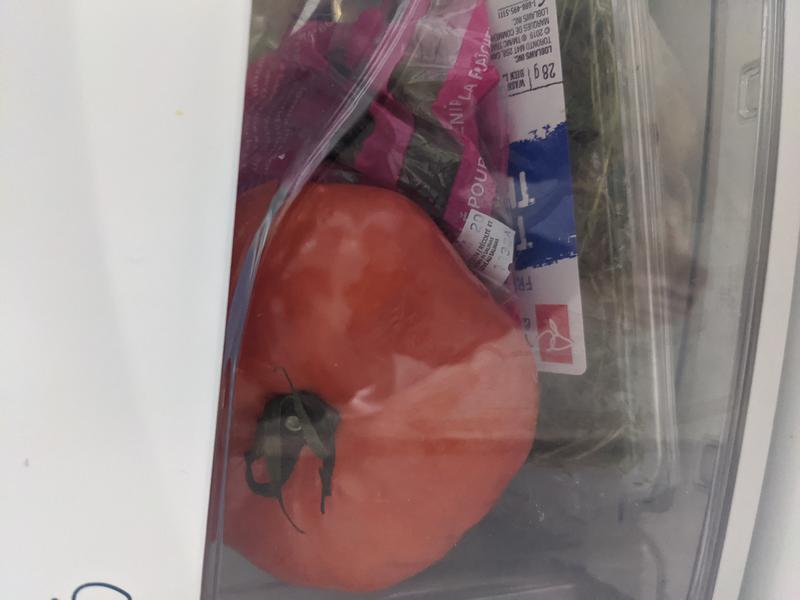tomato: (219, 181, 540, 590)
